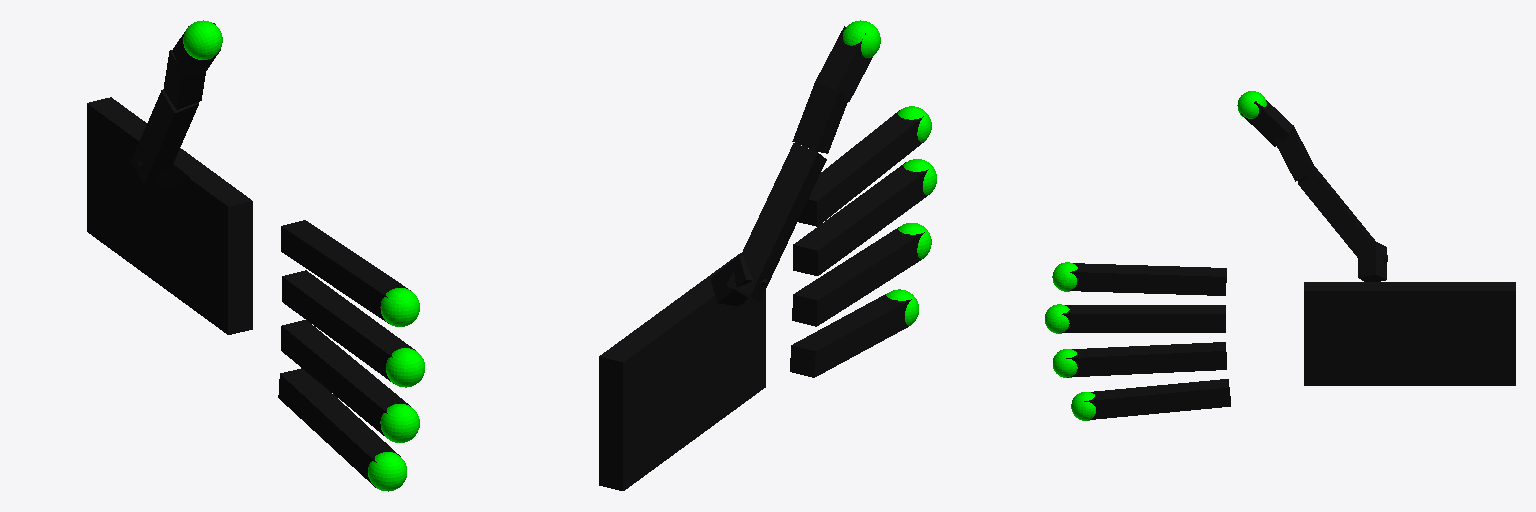
URDF robot description (h1_box):
<?xml version='1.0' encoding='utf-8'?>
<robot name="h1_box">

    <link name="L_hand_base_link">
      <inertial>
        <origin xyz="-0.002551 -0.066047 -0.0019357" rpy="0 0 0" />
        <mass value="0.14143" />
        <inertia ixx="0.0001234" ixy="2.1995E-06" ixz="-1.7694E-06" iyy="8.3835E-05" iyz="1.5968E-06" izz="7.7231E-05" />
      </inertial>
      <visual>
        <origin xyz="-0.0050 -0.0500 0.0000" rpy="0 0 0" />
        <geometry>
          <box size="0.01 0.1 0.05" /></geometry>
        <material name="">
          <color rgba="0.1 0.1 0.1 1" />
        </material>
      </visual>
      <collision>
        <origin xyz="-0.0050 -0.0500 0.0000" rpy="0 0 0" />
        <geometry>
          <box size="0.01 0.1 0.05" /></geometry>
      </collision>
    </link>

    <link name="L_thumb_proximal_base">
      <inertial>
        <origin xyz="0.0048817 0.00038782 -0.00722" rpy="0 0 0" />
        <mass value="0.0018869" />
        <inertia ixx="5.5158E-08" ixy="-1.1803E-08" ixz="-4.6743E-09" iyy="8.2164E-08" iyz="-1.3521E-09" izz="6.7434E-08" />
      </inertial>
      <visual>
        <origin xyz="0.0108 0.0009 -0.0015" rpy="0.0000 0.5660 2.3480" />
        <geometry>
          <box size="0.01 0.016596960038814338 0.01" /></geometry>
        <material name="">
          <color rgba="0.1 0.1 0.1 1" />
        </material>
      </visual>
      <collision>
        <origin xyz="0.0108 0.0009 -0.0015" rpy="0.0000 0.5660 2.3480" />
        <geometry>
          <box size="0.01 0.016596960038814338 0.01" /></geometry>
      </collision>
    </link>

    <joint name="L_thumb_proximal_yaw_joint" type="revolute">
      <origin xyz="-0.01696 -0.0691 0.02045" rpy="1.5708 -1.5708 0" />
      <parent link="L_hand_base_link" />
      <child link="L_thumb_proximal_base" />
      <axis xyz="0 0 1" />
      <limit lower="-0.1" upper="1.3" effort="1" velocity="0.5" />
    </joint>

    <link name="L_thumb_proximal">
      <inertial>
        <origin xyz="0.021936 -0.01279 -0.0080386" rpy="0 0 0" />
        <mass value="0.0066101" />
        <inertia ixx="1.5693E-06" ixy="7.8339E-07" ixz="8.5959E-10" iyy="1.7356E-06" iyz="1.0378E-09" izz="2.787E-06" />
      </inertial>
      <visual>
        <origin xyz="0.0189 -0.0213 -0.0049" rpy="0.0000 0.0143 0.9059" />
        <geometry>
          <box size="0.01 0.056006380966814845 0.01" /></geometry>
        <material name="">
          <color rgba="0.1 0.1 0.1 1" />
        </material>
      </visual>
      <collision>
        <origin xyz="0.0189 -0.0213 -0.0049" rpy="0.0000 0.0143 0.9059" />
        <geometry>
          <box size="0.01 0.056006380966814845 0.01" /></geometry>
      </collision>
    </link>

    <joint name="L_thumb_proximal_pitch_joint" type="revolute">
      <origin xyz="0.0099867 0.0098242 -0.0089" rpy="-1.5708 0 0.16939" />
      <parent link="L_thumb_proximal_base" />
      <child link="L_thumb_proximal" />
      <axis xyz="0 0 -1" />
      <limit lower="0.0" upper="0.5" effort="1" velocity="0.5" />
    </joint>

    <link name="L_thumb_intermediate">
      <inertial>
        <origin xyz="0.0095531 0.0016282 -0.0072002" rpy="0 0 0" />
        <mass value="0.0037844" />
        <inertia ixx="3.6981E-07" ixy="9.8603E-08" ixz="-2.8173E-12" iyy="3.2395E-07" iyz="-2.8028E-12" izz="4.6532E-07" />
      </inertial>
      <visual>
        <origin xyz="0.0078 -0.0098 -0.0047" rpy="0.0000 0.0529 1.1059" />
        <geometry>
          <box size="0.01 0.02268404373122217 0.01" /></geometry>
        <material name="">
          <color rgba="0.1 0.1 0.1 1" />
        </material>
      </visual>
      <collision>
        <origin xyz="0.0078 -0.0098 -0.0047" rpy="0.0000 0.0529 1.1059" />
        <geometry>
          <box size="0.01 0.02268404373122217 0.01" /></geometry>
      </collision>
    </link>

    <joint name="L_thumb_intermediate_joint" type="revolute">
      <origin xyz="0.04407 -0.034553 -0.0008" rpy="0 0 0" />
      <parent link="L_thumb_proximal" />
      <child link="L_thumb_intermediate" />
      <axis xyz="0 0 -1" />
      <limit lower="0" upper="0.8" effort="1" velocity="0.5" />
      <mimic joint="L_thumb_proximal_pitch_joint" multiplier="1.6" offset="0" />
    </joint>

    <link name="L_thumb_distal">
      <inertial>
        <origin xyz="0.0092888 -0.004953 -0.0060033" rpy="0 0 0" />
        <mass value="0.003344" />
        <inertia ixx="1.3632E-07" ixy="5.6787E-08" ixz="-9.1939E-11" iyy="1.4052E-07" iyz="1.2145E-10" izz="2.0026E-07" />
      </inertial>
      <visual>
        <origin xyz="0.0039 -0.0125 -0.0035" rpy="0.0000 0.2626 0.7950" />
        <geometry>
          <box size="0.01 0.023078574950895474 0.01" /></geometry>
        <material name="">
          <color rgba="0.1 0.1 0.1 1" />
        </material>
      </visual>
      <collision>
        <origin xyz="0.0039 -0.0125 -0.0035" rpy="0.0000 0.2626 0.7950" />
        <geometry>
          <box size="0.01 0.023078574950895474 0.01" /></geometry>
      </collision>
    </link>

    <joint name="L_thumb_distal_joint" type="revolute">
      <origin xyz="0.020248 -0.010156 -0.0012" rpy="0 0 0" />
      <parent link="L_thumb_intermediate" />
      <child link="L_thumb_distal" />
      <axis xyz="0 0 -1" />
      <limit lower="0" upper="1.2" effort="1" velocity="0.5" />
      <mimic joint="L_thumb_proximal_pitch_joint" multiplier="2.4" offset="0" />
    </joint>

    <link name="L_thumb_tip">
    <visual>
      <origin xyz="0 0 0" rpy="0 0 0" />
      <geometry>
        <sphere radius="0.006999999999999999" />
      </geometry>
      <material name="green">
        <color rgba="0 1 0 1" />
      </material>
    </visual>
  </link>
  <joint name="L_thumb_tip_joint" type="fixed">
    <parent link="L_thumb_distal" />
    <child link="L_thumb_tip" />
    <origin rpy="0 0 0" xyz="0.0109 -0.0196 -0.0030" />
  </joint>

    <link name="L_index_proximal">
      <inertial>
        <origin xyz="0.0012971 -0.011934 -0.0059998" rpy="0 0 0" />
        <mass value="0.0042405" />
        <inertia ixx="6.6215E-07" ixy="1.8442E-08" ixz="1.3746E-12" iyy="2.1167E-07" iyz="-1.4773E-11" izz="6.9402E-07" />
      </inertial>
      <visual>
        <origin xyz="-0.0050 -0.0161 -0.0050" rpy="0 0 0" />
        <geometry>
          <box size="0.01 0.03214803454972014 0.01" /></geometry>
        <material name="">
          <color rgba="0.1 0.1 0.1 1" />
        </material>
      </visual>
      <collision>
        <origin xyz="-0.0050 -0.0161 -0.0050" rpy="0 0 0" />
        <geometry>
          <box size="0.01 0.03214803454972014 0.01" /></geometry>
      </collision>
    </link>


    <joint name="L_index_proximal_joint" type="revolute">
      <origin xyz="0.00028533 -0.13653 0.032268" rpy="-0.034907 0 0" />
      <parent link="L_hand_base_link" />
      <child link="L_index_proximal" />
      <axis xyz="0 0 -1" />
      <limit lower="0" upper="1.7" effort="1" velocity="0.5" />
    </joint>

    <link name="L_index_intermediate">
      <inertial>
        <origin xyz="0.0021753 -0.019567 -0.005" rpy="0 0 0" />
        <mass value="0.0045682" />
        <inertia ixx="7.6284E-07" ixy="-8.063E-08" ixz="3.6797E-13" iyy="9.4308E-08" iyz="1.5743E-13" izz="7.8176E-07" />
      </inertial>
      <visual>
        <origin xyz="-0.0050 -0.0219 -0.0050" rpy="0 0 0" />
        <geometry>
          <box size="0.01 0.04379631116135011 0.01" /></geometry>
        <material name="">
          <color rgba="0.1 0.1 0.1 1" />
        </material>
      </visual>
      <collision>
        <origin xyz="-0.0050 -0.0219 -0.0050" rpy="0 0 0" />
        <geometry>
          <box size="0.01 0.04379631116135011 0.01" /></geometry>
      </collision>
    </link>

    <joint name="L_index_intermediate_joint" type="revolute">
      <origin xyz="0 -0.032041 0" rpy="0 0 0" />
      <parent link="L_index_proximal" />
      <child link="L_index_intermediate" />
      <axis xyz="0 0 -1" />
      <limit lower="0" upper="1.7" effort="1" velocity="0.5" />
      <mimic joint="L_index_proximal_joint" multiplier="1" offset="0" />
    </joint>

    <link name="L_index_tip">
    <visual>
      <origin xyz="0 0 0" rpy="0 0 0" />
      <geometry>
        <sphere radius="0.006999999999999999" />
      </geometry>
      <material name="green">
        <color rgba="0 1 0 1" />
      </material>
    </visual>
  </link>
  <joint name="L_index_tip_joint" type="fixed">
    <parent link="L_index_intermediate" />
    <child link="L_index_tip" />
    <origin rpy="0 0 0" xyz="-0.005 -0.0433132 -0.005" />
  </joint>

    <link name="L_middle_proximal">
      <inertial>
        <origin xyz="0.0012971 -0.011934 -0.0059999" rpy="0 0 0" />
        <mass value="0.0042405" />
        <inertia ixx="6.6215E-07" ixy="1.8442E-08" ixz="1.2299E-12" iyy="2.1167E-07" iyz="-1.4484E-11" izz="6.9402E-07" />
      </inertial>
      <visual>
        <origin xyz="-0.0050 -0.0161 -0.0050" rpy="0 0 0" />
        <geometry>
          <box size="0.01 0.03214803454972014 0.01" /></geometry>
        <material name="">
          <color rgba="0.1 0.1 0.1 1" />
        </material>
      </visual>
      <collision>
        <origin xyz="-0.0050 -0.0161 -0.0050" rpy="0 0 0" />
        <geometry>
          <box size="0.01 0.03214803454972014 0.01" /></geometry>
      </collision>
    </link>

    <joint name="L_middle_proximal_joint" type="revolute">
      <origin xyz="0.00028533 -0.1371 0.01295" rpy="0 0 0" />
      <parent link="L_hand_base_link" />
      <child link="L_middle_proximal" />
      <axis xyz="0 0 -1" />
      <limit lower="0" upper="1.7" effort="1" velocity="0.5" />
    </joint>

    <link name="L_middle_intermediate">
      <inertial>
        <origin xyz="0.001921 -0.020796 -0.0049999" rpy="0 0 0" />
        <mass value="0.0050397" />
        <inertia ixx="9.5823E-07" ixy="-1.1425E-07" ixz="-2.4186E-12" iyy="1.0646E-07" iyz="3.6974E-12" izz="9.8385E-07" />
      </inertial>
      <visual>
        <origin xyz="-0.0050 -0.0235 -0.0050" rpy="0 0 0" />
        <geometry>
          <box size="0.01 0.04706433173139187 0.01" /></geometry>
        <material name="">
          <color rgba="0.1 0.1 0.1 1" />
        </material>
      </visual>
      <collision>
        <origin xyz="-0.0050 -0.0235 -0.0050" rpy="0 0 0" />
        <geometry>
          <box size="0.01 0.04706433173139187 0.01" /></geometry>
      </collision>
    </link>
    
    <joint name="L_middle_intermediate_joint" type="revolute">
      <origin xyz="0 -0.032041 0" rpy="0 0 0" />
      <parent link="L_middle_proximal" />
      <child link="L_middle_intermediate" />
      <axis xyz="0 0 -1" />
      <limit lower="0" upper="1.7" effort="1" velocity="0.5" />
      <mimic joint="L_middle_proximal_joint" multiplier="1" offset="0" />
    </joint>

    <link name="L_middle_tip">
    <visual>
      <origin xyz="0 0 0" rpy="0 0 0" />
      <geometry>
        <sphere radius="0.006999999999999999" />
      </geometry>
      <material name="green">
        <color rgba="0 1 0 1" />
      </material>
    </visual>
  </link>
  <joint name="L_middle_tip_joint" type="fixed">
    <parent link="L_middle_intermediate" />
    <child link="L_middle_tip" />
    <origin rpy="0 0 0" xyz="-0.005 -0.0466043 -0.005" />
  </joint>

    <link name="L_ring_proximal">
      <inertial>
        <origin xyz="0.0012971 -0.011934 -0.0059999" rpy="0 0 0" />
        <mass value="0.0042405" />
        <inertia ixx="6.6215E-07" ixy="1.8442E-08" ixz="9.6052E-13" iyy="2.1167E-07" iyz="-1.4124E-11" izz="6.9402E-07" />
      </inertial>
      <visual>
        <origin xyz="-0.0050 -0.0161 -0.0050" rpy="0 0 0" />
        <geometry>
          <box size="0.01 0.03214803454972014 0.01" /></geometry>
        <material name="">
          <color rgba="0.1 0.1 0.1 1" />
        </material>
      </visual>
      <collision>
        <origin xyz="-0.0050 -0.0161 -0.0050" rpy="0 0 0" />
        <geometry>
          <box size="0.01 0.03214803454972014 0.01" /></geometry>
      </collision>
    </link>

    <joint name="L_ring_proximal_joint" type="revolute">
      <origin xyz="0.00028533 -0.13691 -0.0062872" rpy="0.05236 0 0" />
      <parent link="L_hand_base_link" />
      <child link="L_ring_proximal" />
      <axis xyz="0 0 -1" />
      <limit lower="0" upper="1.7" effort="1" velocity="0.5" />
    </joint>

    <link name="L_ring_intermediate">
      <inertial>
        <origin xyz="0.0021753 -0.019567 -0.005" rpy="0 0 0" />
        <mass value="0.0045682" />
        <inertia ixx="7.6285E-07" ixy="-8.0631E-08" ixz="3.3472E-14" iyy="9.4308E-08" iyz="-4.4773E-13" izz="7.8176E-07" />
      </inertial>
      <visual>
        <origin xyz="-0.0050 -0.0219 -0.0050" rpy="0 0 0" />
        <geometry>
          <box size="0.01 0.04379633523392682 0.01" /></geometry>
        <material name="">
          <color rgba="0.1 0.1 0.1 1" />
        </material>
      </visual>
      <collision>
        <origin xyz="-0.0050 -0.0219 -0.0050" rpy="0 0 0" />
        <geometry>
          <box size="0.01 0.04379633523392682 0.01" /></geometry>
      </collision>
    </link>

    <joint name="L_ring_intermediate_joint" type="revolute">
      <origin xyz="0 -0.032041 0" rpy="0 0 0" />
      <parent link="L_ring_proximal" />
      <child link="L_ring_intermediate" />
      <axis xyz="0 0 -1" />
      <limit lower="0" upper="1.7" effort="1" velocity="0.5" />
      <mimic joint="L_ring_proximal_joint" multiplier="1" offset="0" />
    </joint>

    <link name="L_ring_tip">
    <visual>
      <origin xyz="0 0 0" rpy="0 0 0" />
      <geometry>
        <sphere radius="0.006999999999999999" />
      </geometry>
      <material name="green">
        <color rgba="0 1 0 1" />
      </material>
    </visual>
  </link>
  <joint name="L_ring_tip_joint" type="fixed">
    <parent link="L_ring_intermediate" />
    <child link="L_ring_tip" />
    <origin rpy="0 0 0" xyz="-0.005 -0.0433541 -0.005" />
  </joint>

    <link name="L_pinky_proximal">
      <inertial>
        <origin xyz="0.0012971 -0.011934 -0.0059999" rpy="0 0 0" />
        <mass value="0.0042405" />
        <inertia ixx="6.6215E-07" ixy="1.8442E-08" ixz="1.0279E-12" iyy="2.1167E-07" iyz="-1.4277E-11" izz="6.9402E-07" />
      </inertial>
      <visual>
        <origin xyz="-0.0050 -0.0161 -0.0050" rpy="0 0 0" />
        <geometry>
          <box size="0.01 0.03214803454972014 0.01" /></geometry>
        <material name="">
          <color rgba="0.1 0.1 0.1 1" />
        </material>
      </visual>
      <collision>
        <origin xyz="-0.0050 -0.0161 -0.0050" rpy="0 0 0" />
        <geometry>
          <box size="0.01 0.03214803454972014 0.01" /></geometry>
      </collision>
    </link>

    <joint name="L_pinky_proximal_joint" type="revolute">
      <origin xyz="0.00028533 -0.13571 -0.025488" rpy="0.10472 0 0" />
      <parent link="L_hand_base_link" />
      <child link="L_pinky_proximal" />
      <axis xyz="0 0 -1" />
      <limit lower="0" upper="1.7" effort="1" velocity="0.5" />
    </joint>

    <link name="L_pinky_intermediate">
      <inertial>
        <origin xyz="0.0024788 -0.016208 -0.0050001" rpy="0 0 0" />
        <mass value="0.0036036" />
        <inertia ixx="4.3923E-07" ixy="-4.1355E-08" ixz="1.2263E-12" iyy="7.0315E-08" iyz="3.1311E-12" izz="4.4881E-07" />
      </inertial>
      <visual>
        <origin xyz="-0.0050 -0.0184 -0.0050" rpy="0 0 0" />
        <geometry>
          <box size="0.01 0.03671467408620836 0.01" /></geometry>
        <material name="">
          <color rgba="0.1 0.1 0.1 1" />
        </material>
      </visual>
      <collision>
        <origin xyz="-0.0050 -0.0184 -0.0050" rpy="0 0 0" />
        <geometry>
          <box size="0.01 0.03671467408620836 0.01" /></geometry>
      </collision>
    </link>

    <joint name="L_pinky_intermediate_joint" type="revolute">
      <origin xyz="0 -0.032041 0" rpy="0 0 0" />
      <parent link="L_pinky_proximal" />
      <child link="L_pinky_intermediate" />
      <axis xyz="0 0 -1" />
      <limit lower="0" upper="1.7" effort="1" velocity="0.5" />
      <mimic joint="L_pinky_proximal_joint" multiplier="1" offset="0" />
    </joint>

    <link name="L_pinky_tip">
    <visual>
      <origin xyz="0 0 0" rpy="0 0 0" />
      <geometry>
        <sphere radius="0.006999999999999999" />
      </geometry>
      <material name="green">
        <color rgba="0 1 0 1" />
      </material>
    </visual>
  </link>
  <joint name="L_pinky_tip_joint" type="fixed">
    <parent link="L_pinky_intermediate" />
    <child link="L_pinky_tip" />
    <origin rpy="0 0 0" xyz="-0.005 -0.0362776 -0.005" />
  </joint>

</robot>

--- Render facts (derived) ---
The picture shows the robot from 3 angles, left to right: view 1: azimuth 30°, elevation 25°; view 2: azimuth 150°, elevation 25°; view 3: azimuth 270°, elevation 25°; orthographic projection.
Robot: h1_box — 18 links, 17 joints (12 revolute, 5 fixed); root link L_hand_base_link; default pose: all joints at 0.
Visible links, largest first — view 1: L_hand_base_link, L_thumb_proximal, L_middle_intermediate, L_ring_intermediate, L_index_intermediate, L_pinky_intermediate, L_pinky_proximal, L_ring_proximal, L_middle_proximal, L_index_proximal, L_thumb_intermediate, L_thumb_tip (+6 smaller); view 2: L_hand_base_link, L_thumb_proximal, L_middle_intermediate, L_middle_proximal, L_index_intermediate, L_ring_proximal, L_pinky_proximal, L_ring_intermediate, L_index_proximal, L_thumb_intermediate, L_pinky_intermediate, L_thumb_distal (+5 smaller); view 3: L_hand_base_link, L_middle_intermediate, L_thumb_proximal, L_ring_intermediate, L_index_intermediate, L_pinky_intermediate, L_pinky_proximal, L_ring_proximal, L_index_proximal, L_middle_proximal, L_thumb_intermediate, L_thumb_distal (+6 smaller).
Link boxes in pixels (x1=…): L_hand_base_link: x1=87, y1=97, x2=252, y2=334; L_thumb_proximal: x1=131, y1=90, x2=198, y2=184; L_middle_intermediate: x1=327, y1=303, x2=415, y2=383; L_ring_intermediate: x1=326, y1=357, x2=410, y2=435; L_index_intermediate: x1=326, y1=250, x2=410, y2=323; L_pinky_intermediate: x1=324, y1=409, x2=400, y2=487; L_pinky_proximal: x1=278, y1=368, x2=348, y2=439; L_ring_proximal: x1=281, y1=320, x2=350, y2=387; L_middle_proximal: x1=282, y1=270, x2=350, y2=334; L_index_proximal: x1=281, y1=220, x2=349, y2=281; L_thumb_intermediate: x1=163, y1=50, x2=205, y2=109; L_thumb_tip: x1=183, y1=20, x2=222, y2=59; L_hand_base_link: x1=599, y1=253, x2=765, y2=490; L_thumb_proximal: x1=727, y1=143, x2=826, y2=302; L_middle_intermediate: x1=840, y1=162, x2=929, y2=242; L_middle_proximal: x1=793, y1=211, x2=862, y2=275; L_index_intermediate: x1=839, y1=110, x2=923, y2=189; L_ring_proximal: x1=792, y1=265, x2=862, y2=326; L_pinky_proximal: x1=790, y1=321, x2=860, y2=377; L_ring_intermediate: x1=839, y1=227, x2=924, y2=297; L_index_proximal: x1=798, y1=159, x2=862, y2=226; L_thumb_intermediate: x1=792, y1=81, x2=847, y2=153; L_pinky_intermediate: x1=837, y1=294, x2=911, y2=352; L_thumb_distal: x1=816, y1=26, x2=872, y2=101; L_hand_base_link: x1=1304, y1=282, x2=1515, y2=385; L_middle_intermediate: x1=1062, y1=305, x2=1157, y2=332; L_thumb_proximal: x1=1298, y1=167, x2=1387, y2=264; L_ring_intermediate: x1=1066, y1=345, x2=1158, y2=377; L_index_intermediate: x1=1070, y1=263, x2=1158, y2=293; L_pinky_intermediate: x1=1084, y1=385, x2=1162, y2=419; L_pinky_proximal: x1=1161, y1=379, x2=1230, y2=412; L_ring_proximal: x1=1158, y1=342, x2=1226, y2=372; L_index_proximal: x1=1158, y1=266, x2=1226, y2=295; L_middle_proximal: x1=1158, y1=305, x2=1225, y2=332; L_thumb_intermediate: x1=1274, y1=125, x2=1314, y2=181; L_thumb_distal: x1=1241, y1=100, x2=1292, y2=146.
Size in the robot's own frame: 0.0438 by 0.2227 by 0.157 metres.
Geometry: primitives only (box / cylinder / sphere), no mesh files.